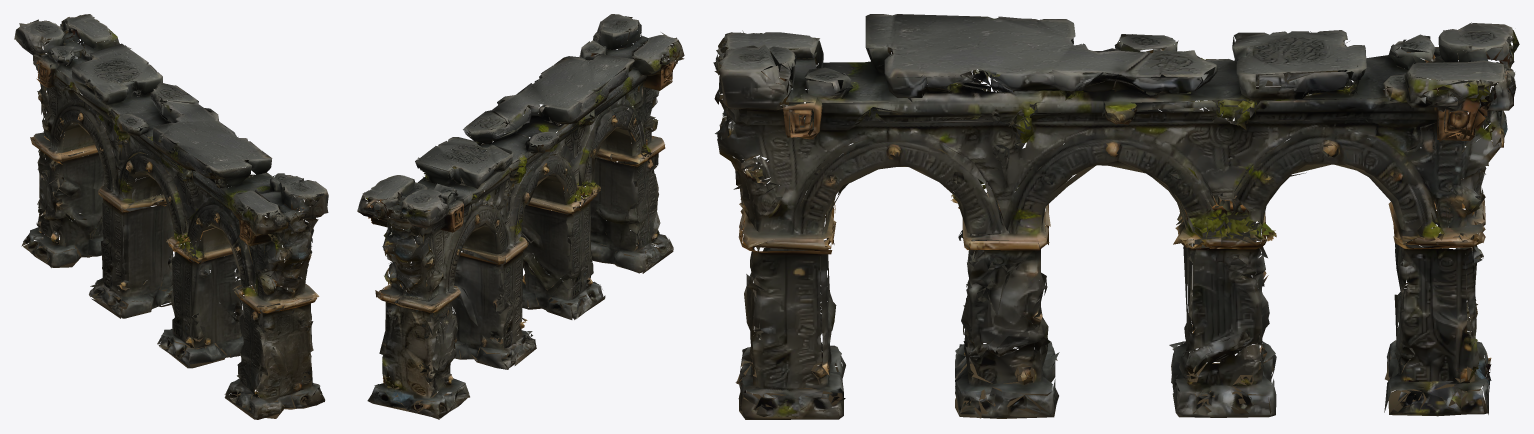
File: ch6_sunken_aqueduct_arches_LOD1.glb
3 renders of one model, left to right at view 1: azimuth 30°, elevation 25°; view 2: azimuth 150°, elevation 25°; view 3: azimuth 270°, elevation 25°, orthographic. The views are drawn at different scales.
Parts seen in each view (by area): view 1: tripo_node_0f47f7d9-d05a-4230-95cf-df8e52c144d8; view 2: tripo_node_0f47f7d9-d05a-4230-95cf-df8e52c144d8; view 3: tripo_node_0f47f7d9-d05a-4230-95cf-df8e52c144d8.
Part boxes in pixels (x1=…): tripo_node_0f47f7d9-d05a-4230-95cf-df8e52c144d8: x1=14, y1=14, x2=328, y2=419; tripo_node_0f47f7d9-d05a-4230-95cf-df8e52c144d8: x1=357, y1=14, x2=684, y2=419; tripo_node_0f47f7d9-d05a-4230-95cf-df8e52c144d8: x1=713, y1=14, x2=1519, y2=419.
Bounding box in the file's own units: 0.1935 × 0.4871 × 1.01.
Materials: 1 (1 with a texture image).
